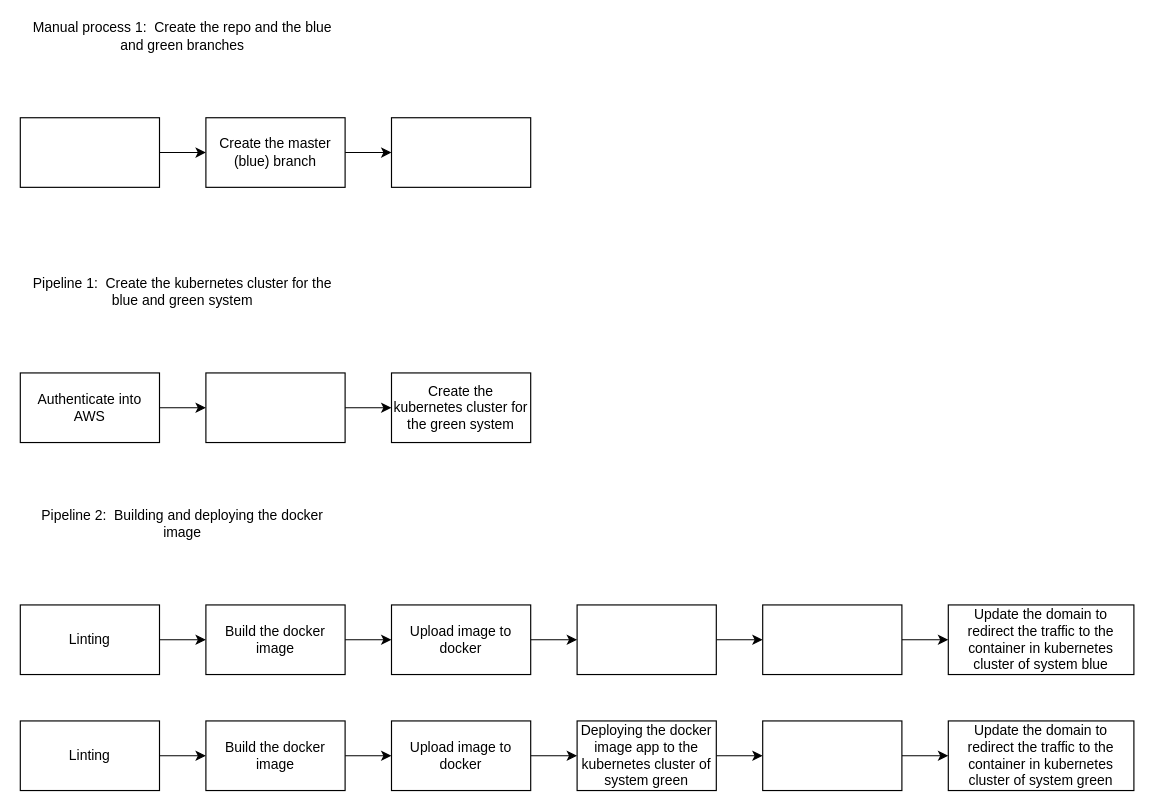
This 1154x811 diagram has some shape labels left out. The shapes that lost their labels are listed below. From the top down, each one's box as (x1, y1, x2, y2) in pixels, then its label:
(19, 117, 160, 187): Create the github repo
(390, 117, 531, 187): Create the green branch
(205, 372, 345, 443): Create the kubernetes cluster for the blue system
(576, 604, 716, 675): Deploying the docker image app to the kubernetes cluster of system blue
(762, 604, 902, 675): Expose the container in kubernetes cluster of system blue
(762, 720, 902, 791): Expose the container in kubernetes cluster of system green
